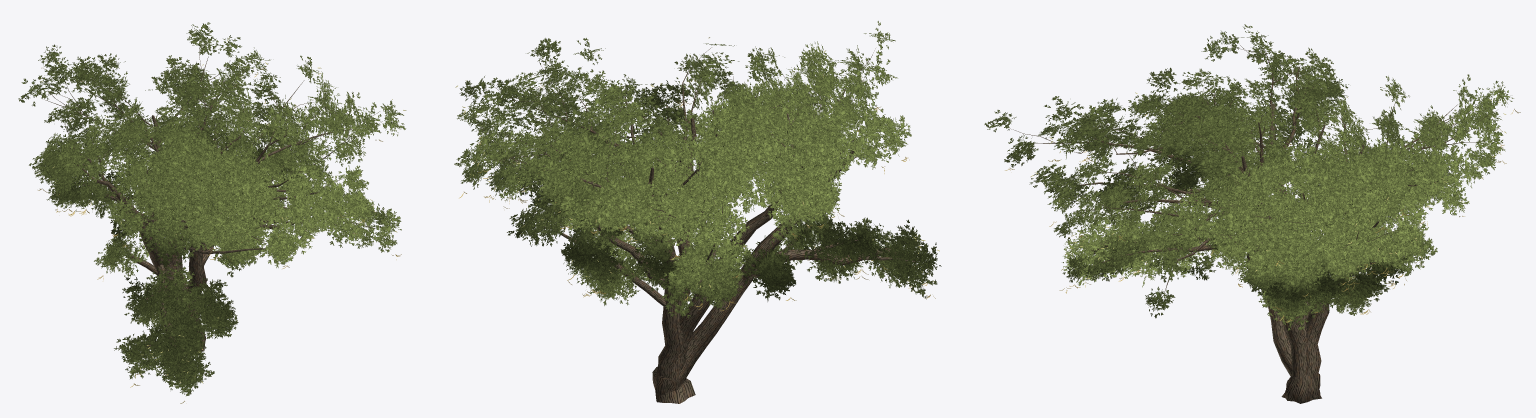
File: old-a.lod0.glb
3 views of the same model, side by side, from view 1: azimuth 30°, elevation 25°; view 2: azimuth 150°, elevation 25°; view 3: azimuth 270°, elevation 25° (orthographic). The views are drawn at different scales.
Parts seen in each view (by area): view 1: foliage, bark; view 2: foliage, bark, fruit; view 3: foliage, bark, fruit.
Part boxes in pixels (left/top/right/bottom): foliage: left=18, top=22, right=405, bottom=395; bark: left=44, top=46, right=382, bottom=368; foliage: left=454, top=21, right=941, bottom=318; bark: left=478, top=47, right=915, bottom=403; fruit: left=459, top=74, right=935, bottom=311; foliage: left=984, top=24, right=1513, bottom=330; bark: left=1010, top=45, right=1496, bottom=403; fruit: left=1005, top=107, right=1520, bottom=322.
Size of the model in its own units: 14.31 by 10 by 16.28.
5 materials, 2 textured.
